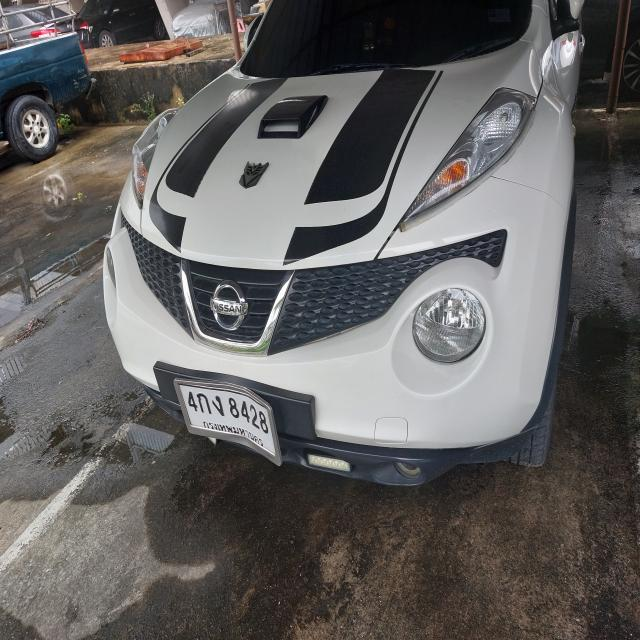license_plate: (172, 368, 289, 473)
